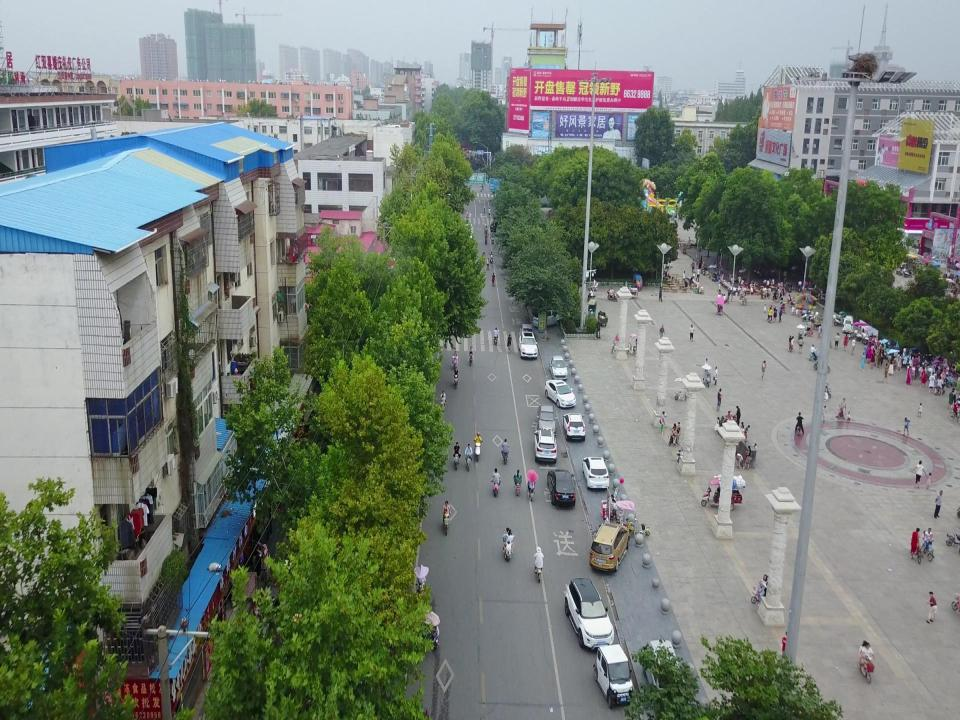car: (564, 576, 614, 648), (593, 644, 633, 710), (589, 521, 629, 572), (547, 468, 575, 508), (544, 378, 576, 408), (582, 457, 610, 490), (533, 430, 557, 464), (562, 413, 586, 441), (536, 404, 558, 433), (518, 331, 538, 359), (548, 354, 568, 380), (520, 322, 534, 339), (490, 221, 503, 232), (464, 222, 474, 234)
van: (641, 639, 683, 710), (532, 307, 560, 327), (842, 314, 853, 333)
